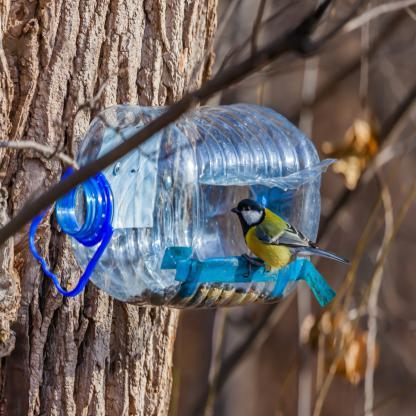bottle: (25, 90, 352, 356)
